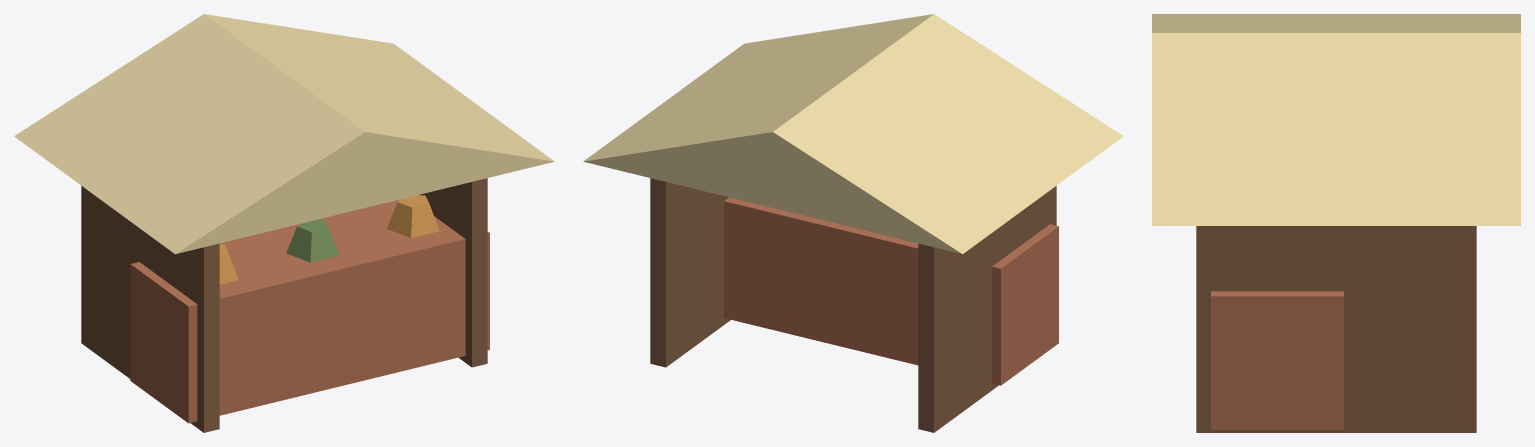
The model's file is bld_market.glb.
3 views of the same model, side by side, from view 1: azimuth 30°, elevation 25°; view 2: azimuth 150°, elevation 25°; view 3: azimuth 270°, elevation 25° (orthographic). The views are drawn at different scales.
Parts seen in each view (by area): view 1: bld_market; view 2: bld_market; view 3: bld_market.
Boxes of the visible parts, x1,y1,x2,y2 form: bld_market: [14, 14, 554, 432]; bld_market: [583, 14, 1123, 432]; bld_market: [1152, 14, 1520, 432].
Bounding box in the file's own units: 3.4 × 2.4 × 2.5.
Materials: 1 (1 with a texture image).
